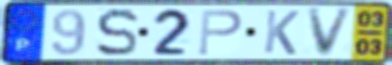2: (151, 7, 193, 58)
9: (49, 8, 87, 58)
K: (261, 8, 301, 57)
P: (197, 8, 245, 57)
S: (95, 7, 141, 59)
V: (305, 6, 356, 59)
